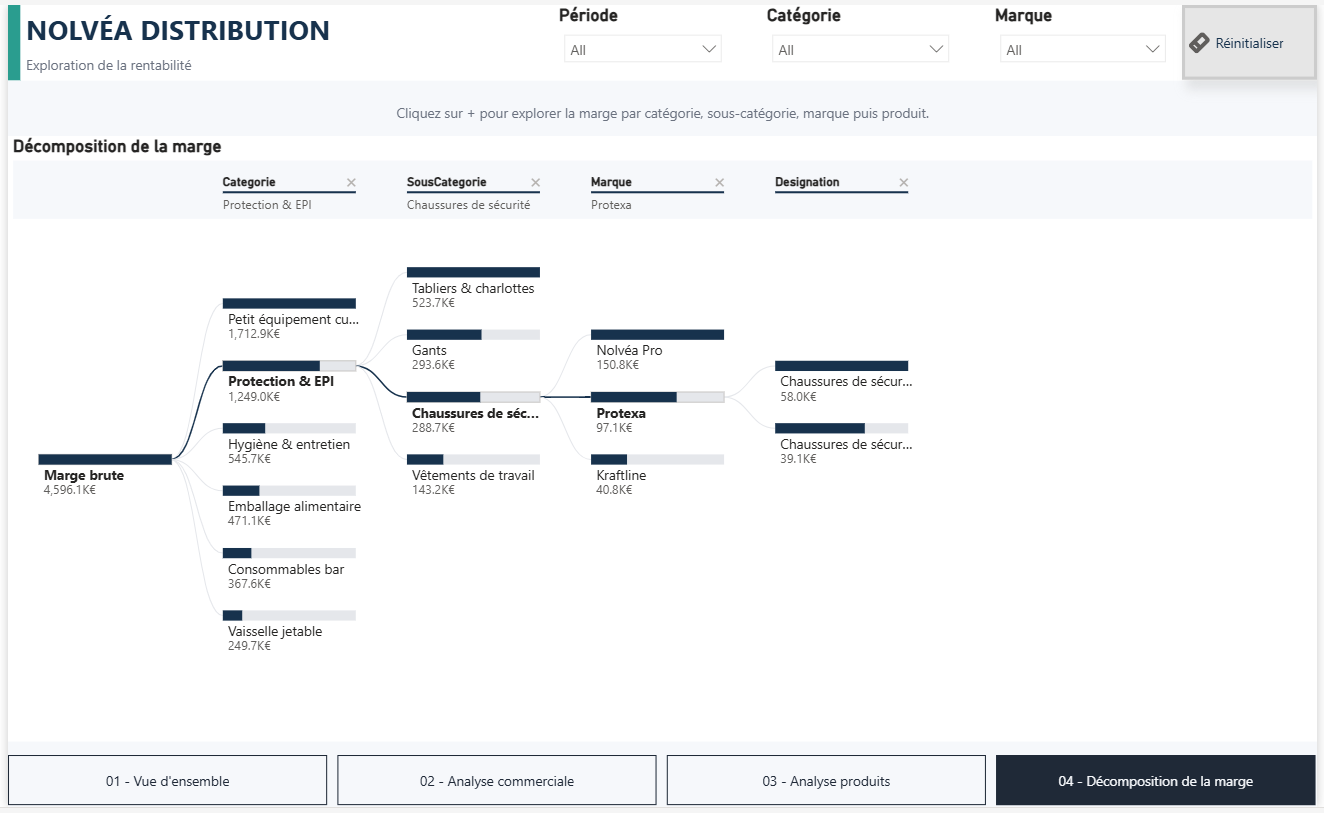

This screenshot's page, from the dashboard's own definition file:
{"tool":"powerbi","page":{"name":"04 - Décomposition de la marge","canvas":[1280,784],"ordinal":4},"visuals":[{"type":"textbox","box":[12.3,0,1267.7,47],"z":0},{"type":"textbox","box":[12.3,45,1267.7,28.6],"z":1000},{"type":"shape","box":[0,0,12.3,73.6],"z":2000},{"type":"slicer","title":"Période","fields":{"Values":["Dim_Date.AnneeMois"]},"box":[533.6,0,174.2,73.3],"z":3000},{"type":"slicer","title":"Catégorie","fields":{"Values":["Dim_Produit.Categorie"]},"box":[736.9,0,193.1,73.3],"z":4000},{"type":"slicer","title":"Marque","fields":{"Values":["Dim_Produit.Marque"]},"box":[959.8,0,181.5,73.3],"z":5000},{"type":"decompositionTreeVisual","title":"Décomposition de la marge","fields":{"Analyze":["_Mesures.Marge brute"],"ExplainBy":["Dim_Produit.Categorie","Dim_Produit.SousCategorie","Dim_Produit.Marque","Dim_Produit.Designation"]},"box":[0,127.8,1280,592.5],"z":7001},{"type":"textbox","box":[0,91.9,1280,35.9],"z":7002},{"type":"actionButton","box":[1147.9,0,132.1,73.3],"z":7003},{"type":"pageNavigator","box":[0,732.9,1280,49.6],"z":7004}]}

Visuals, with their boxes in screenshot pixels (x1, y1, x2, y2), scaled from the page's 1280x784 canvas onto the 1324x813 screenshot:
textbox: 13/0/1323/49
textbox: 13/47/1323/76
shape: 0/0/13/76
"Période" slicer: 552/0/732/76
"Catégorie" slicer: 762/0/962/76
"Marque" slicer: 993/0/1181/76
"Décomposition de la marge" decompositionTreeVisual: 0/133/1323/747
textbox: 0/95/1323/133
actionButton: 1187/0/1323/76
pageNavigator: 0/760/1323/811
